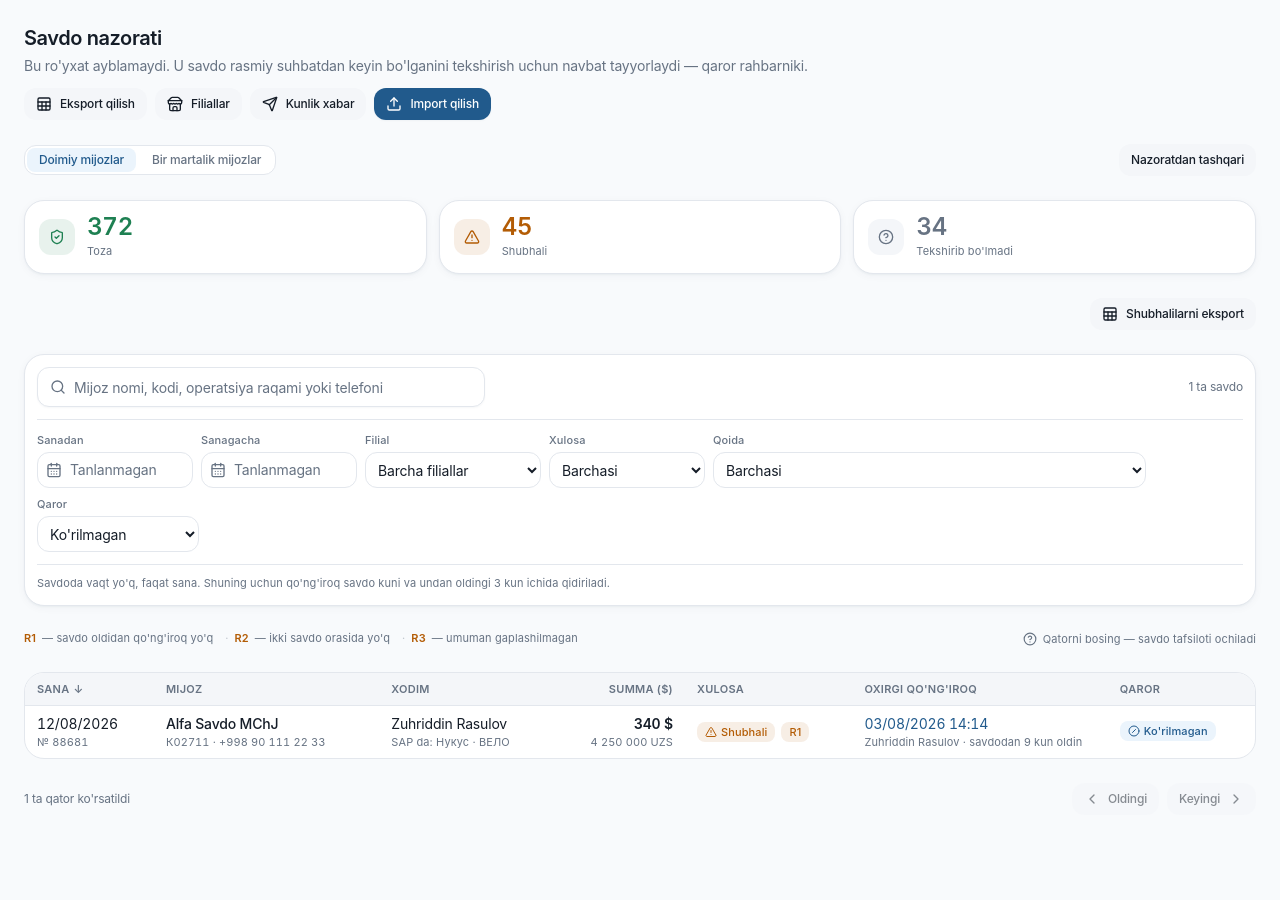
Test case: the sale card › opens on the row and carries the facts and the sentence
Step 1. Click the text "№ 88681" → click(63, 742), box [37, 735, 88, 749]
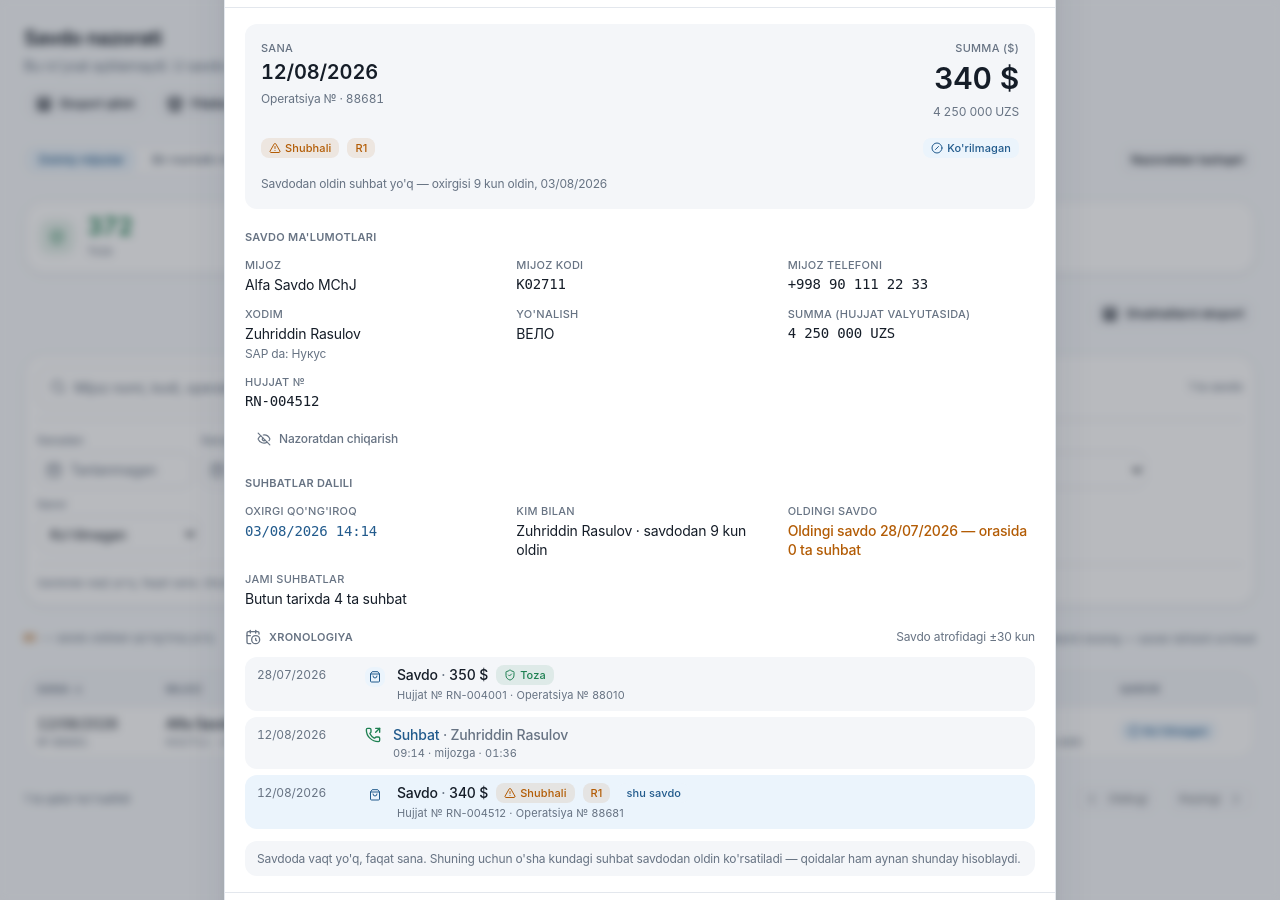
Check: the heading "Savdo ma'lumotlari" is shown, box [245, 230, 376, 244]
Check: the text "RN-004512" is shown, box [245, 392, 319, 408]
